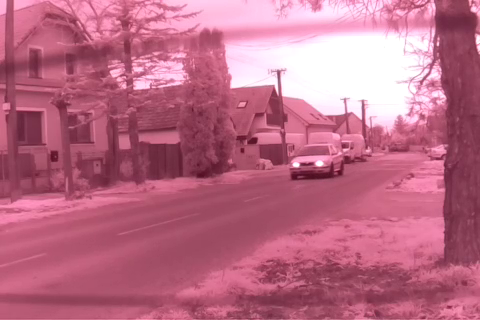car: (289, 143, 345, 181)
